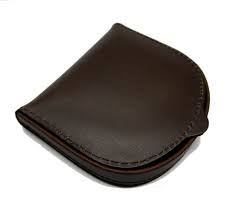monedero: (16, 23, 210, 187)
